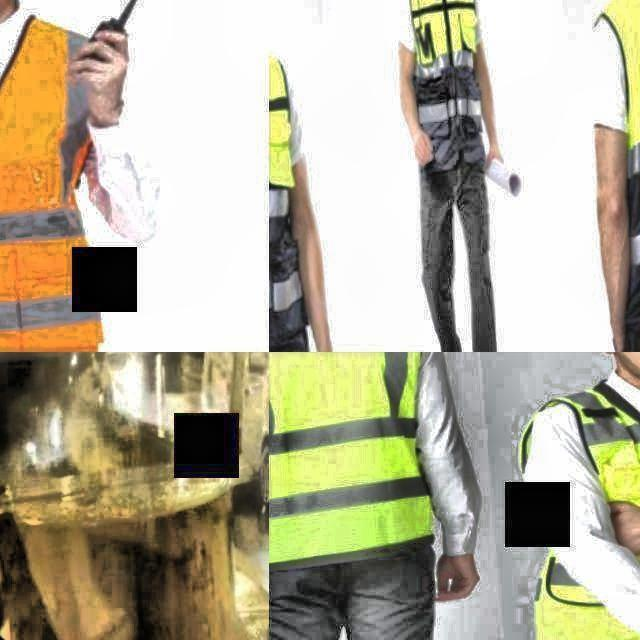safety_jacket: (0, 2, 122, 352), (269, 352, 440, 560), (542, 395, 640, 640), (590, 0, 640, 352), (406, 0, 503, 166), (269, 39, 320, 343)
